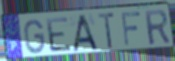A: (72, 13, 100, 54)
E: (44, 16, 74, 54)
F: (120, 10, 143, 49)
G: (23, 19, 46, 56)
R: (143, 9, 172, 47)
T: (97, 11, 116, 50)
